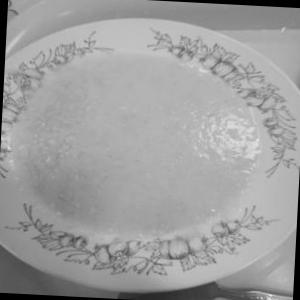porridge: (4, 34, 272, 259)
